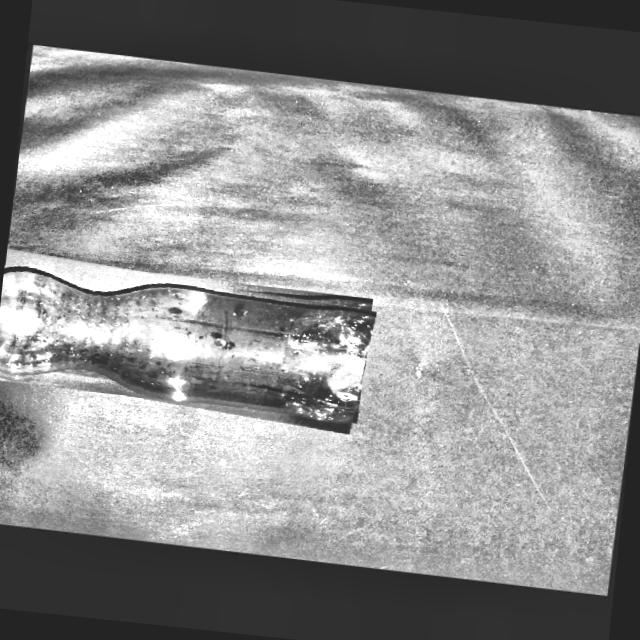Plastic-Bottle: (0, 249, 378, 429)
